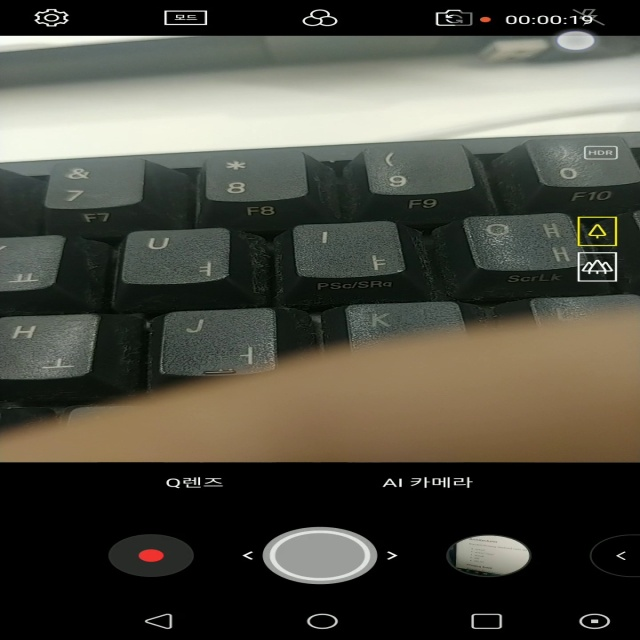Cursor: (555, 29, 600, 52)
